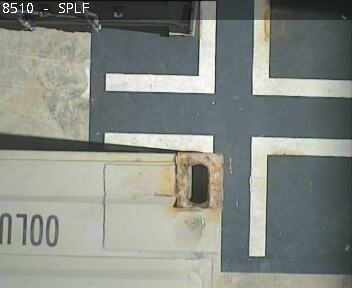groundmarker_1: (103, 131, 351, 257), (103, 2, 352, 100)
